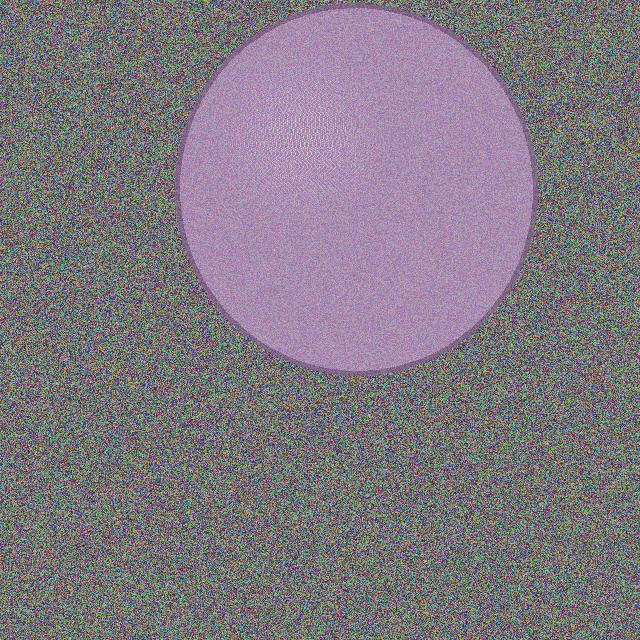lens: (178, 6, 534, 372)
